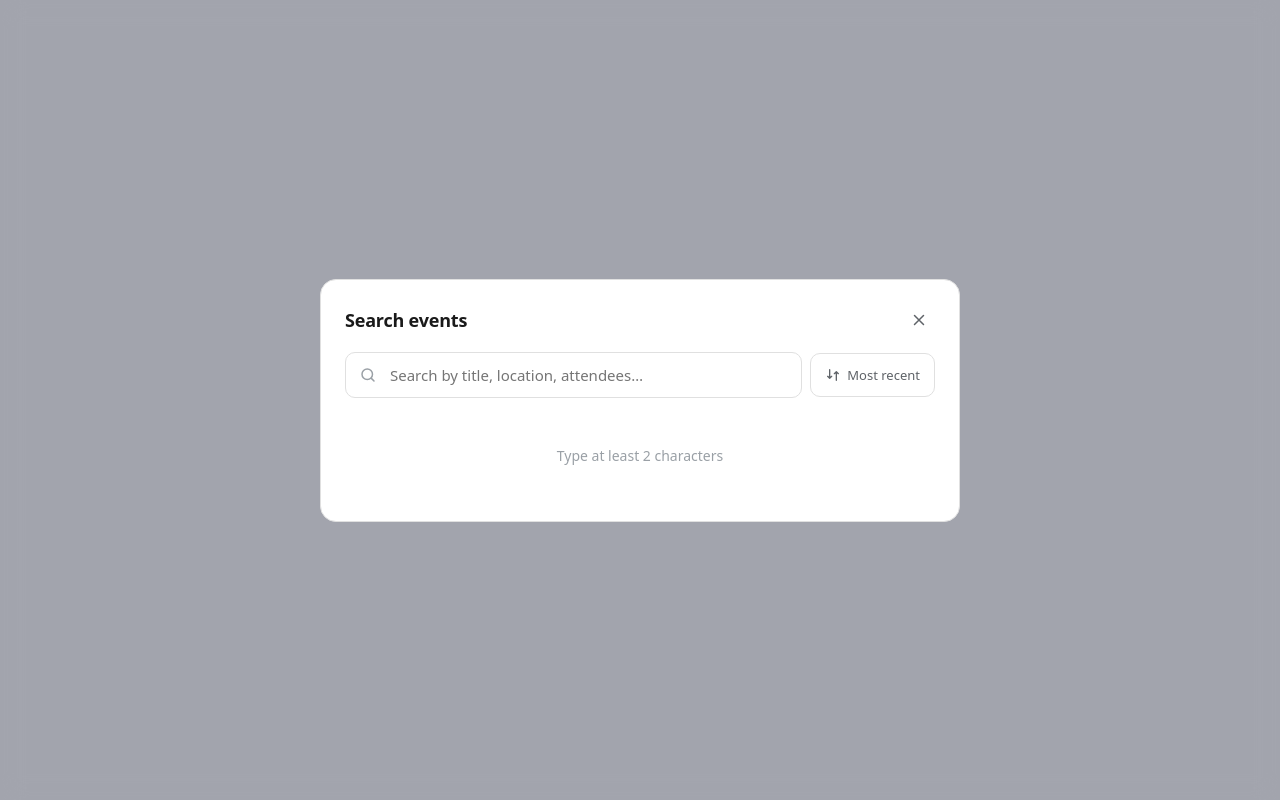
Test: eventSearchDialog query lifecycle › changes sort only after choosing an option from the popup
The width and height of the screenshot is (1280, 800).
Type "team" into the dropdown at (574, 374), box [345,352,802,398]
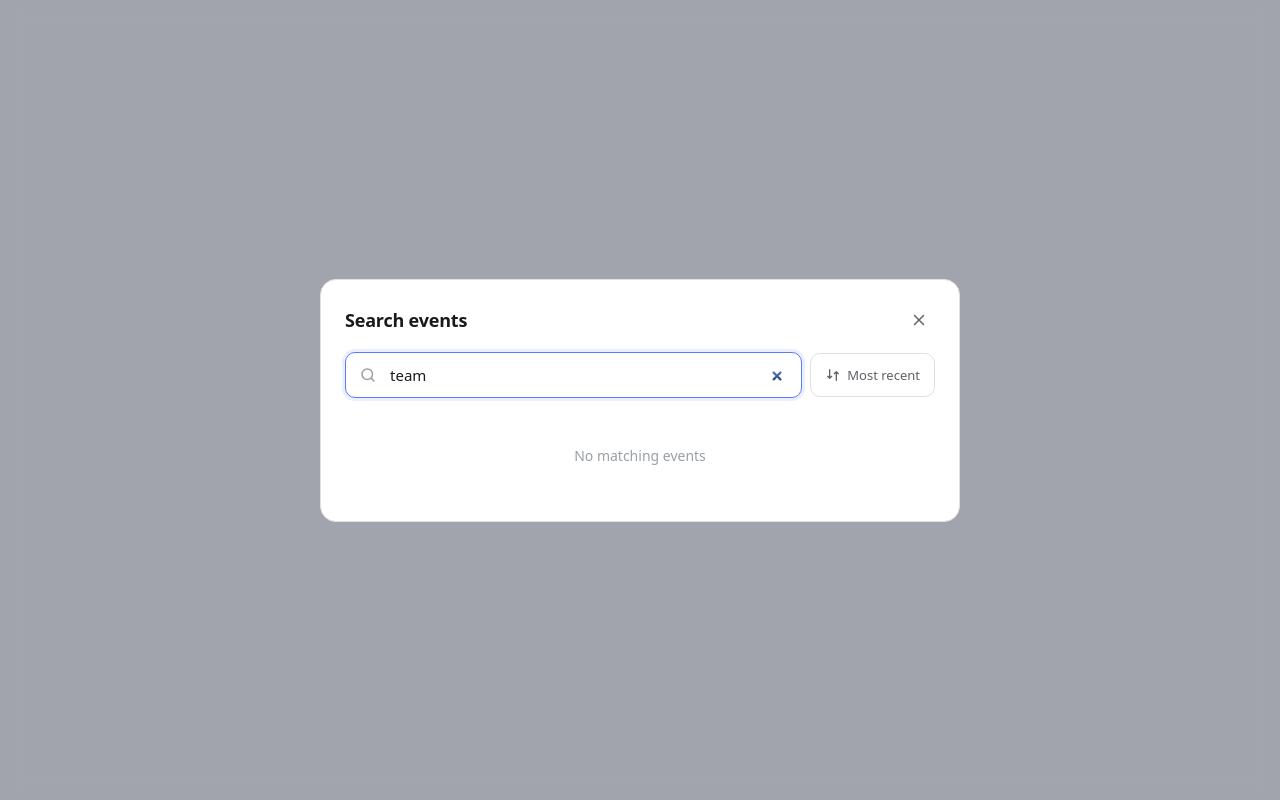
Click the button with aria-label "sort" at (873, 374), box [810,352,935,396]
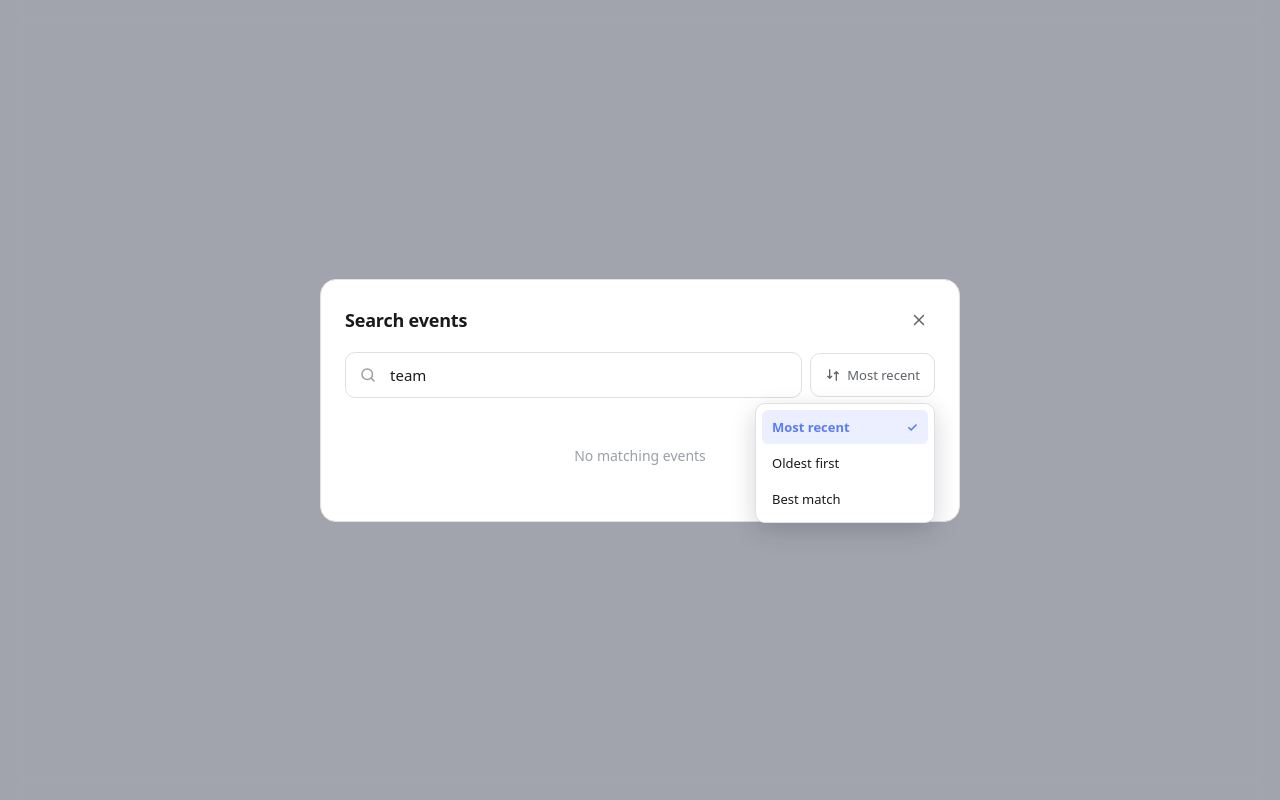
expect the number of menu items is 3: met
Click the menu item "Best match" at (845, 498), box [762,482,928,516]
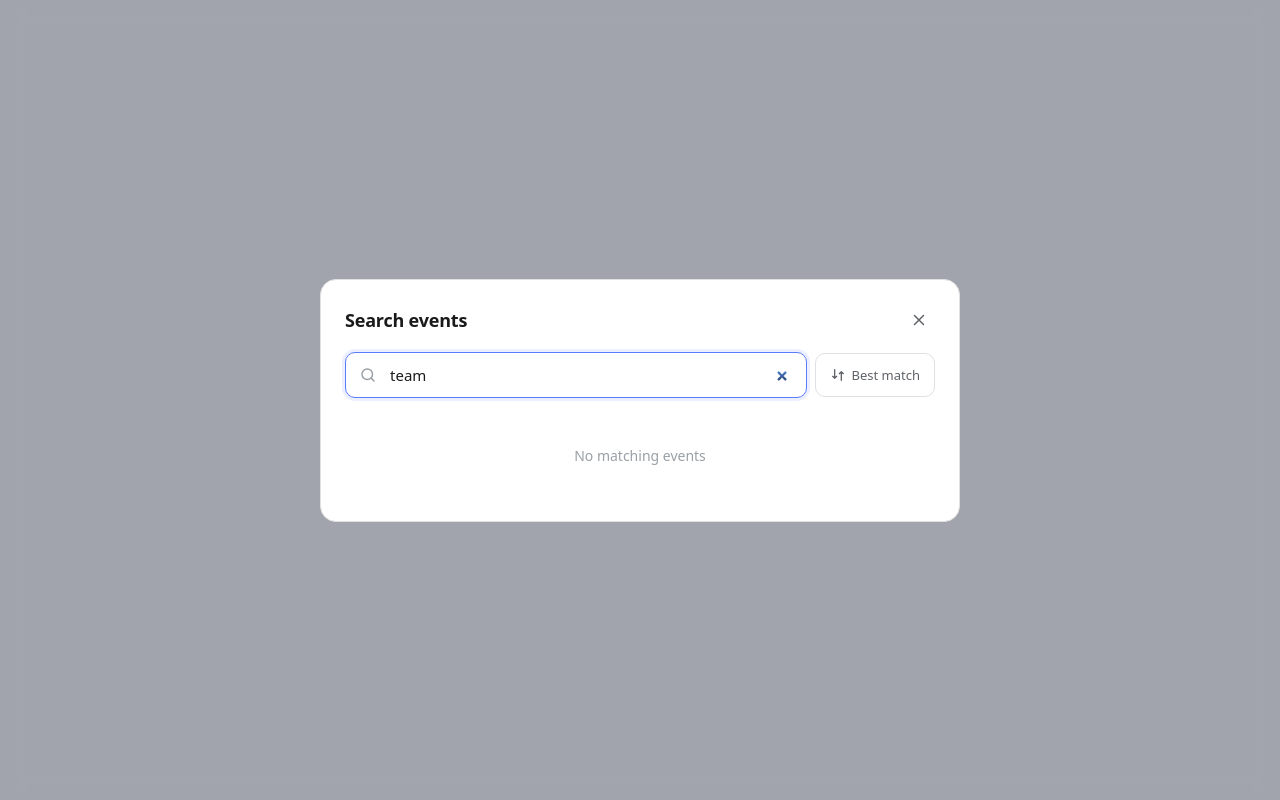
expect the menu is gone: met
